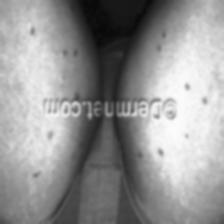Toxin: (20, 12, 40, 44), (27, 160, 46, 190)
